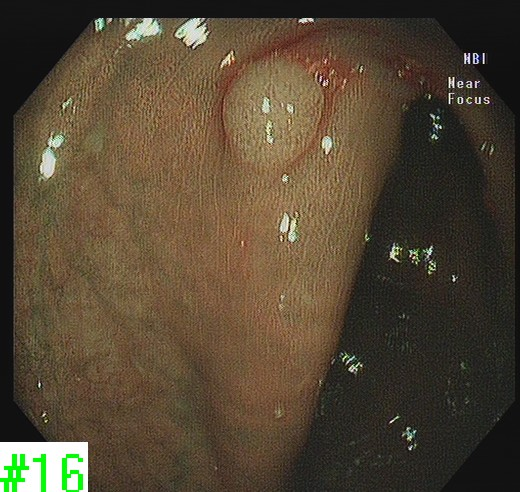adenoma: (218, 52, 328, 175)
